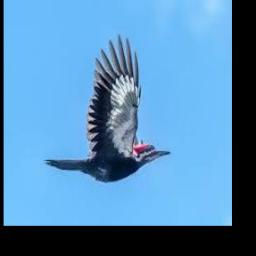Woodpecker: (44, 34, 171, 182)
